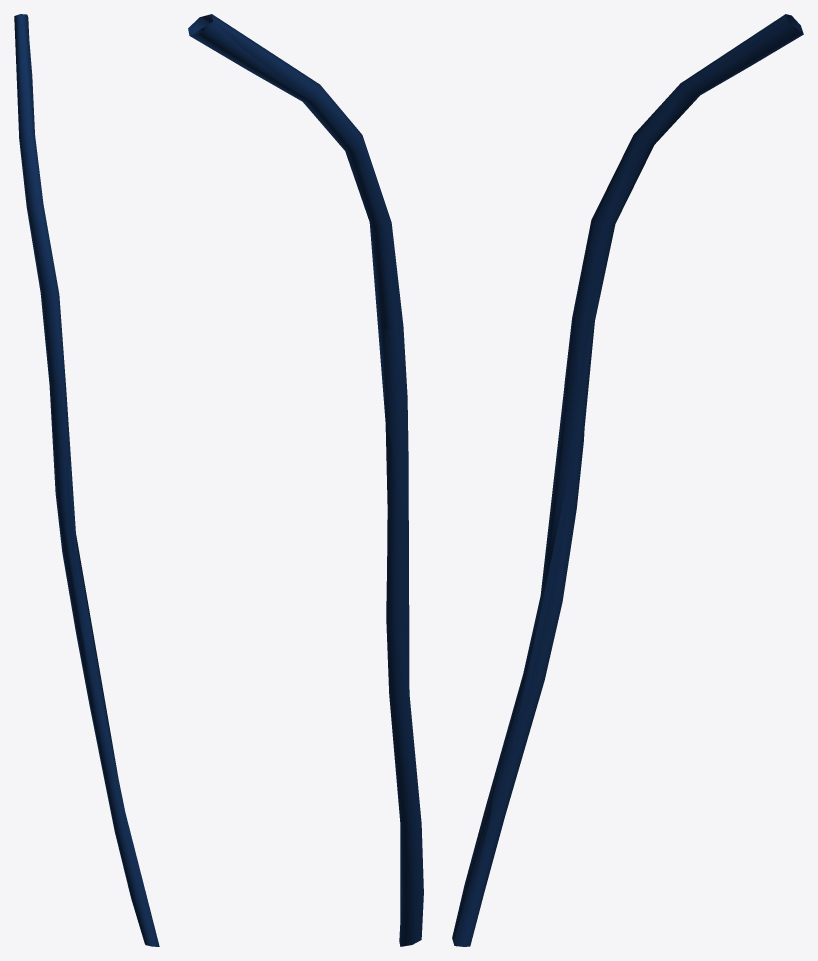
The model's file is R vena metatarseae plantares III.fbx.
3 views of the same model, side by side, from view 1: azimuth 30°, elevation 25°; view 2: azimuth 150°, elevation 25°; view 3: azimuth 270°, elevation 25° (orthographic). The views are drawn at different scales.
Visible parts, largest first — view 1: R vena metatarseae plantares III, R vena metatarseae plantares III low; view 2: R vena metatarseae plantares III, R vena metatarseae plantares III low; view 3: R vena metatarseae plantares III, R vena metatarseae plantares III low.
Part boxes in pixels (x1,y1,x2,y2): R vena metatarseae plantares III: [19, 15, 152, 946]; R vena metatarseae plantares III low: [14, 14, 159, 946]; R vena metatarseae plantares III: [188, 14, 423, 946]; R vena metatarseae plantares III low: [189, 14, 409, 945]; R vena metatarseae plantares III: [452, 14, 803, 946]; R vena metatarseae plantares III low: [452, 14, 803, 945].
Size of the model in its own units: 1 by 11.02 by 3.75.
